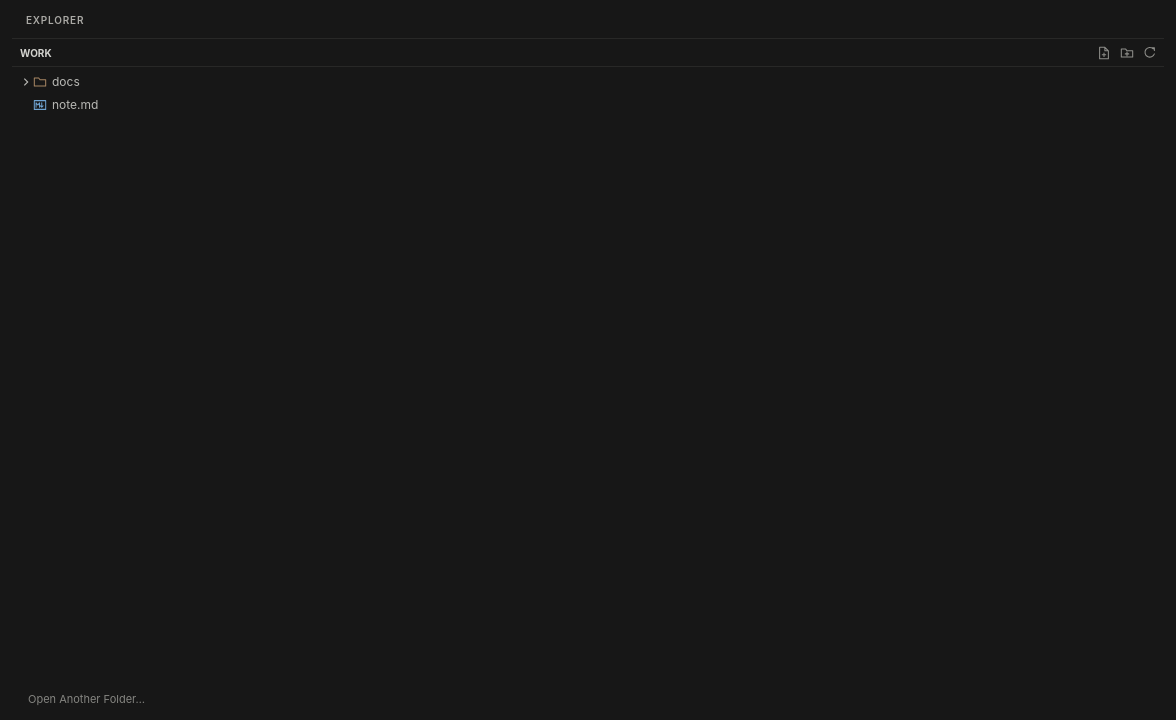
Test: Explorer › preserves expanded folders during external root refreshes
Click the list item "docs".
click(26, 82)  # box [12,70,1164,93]
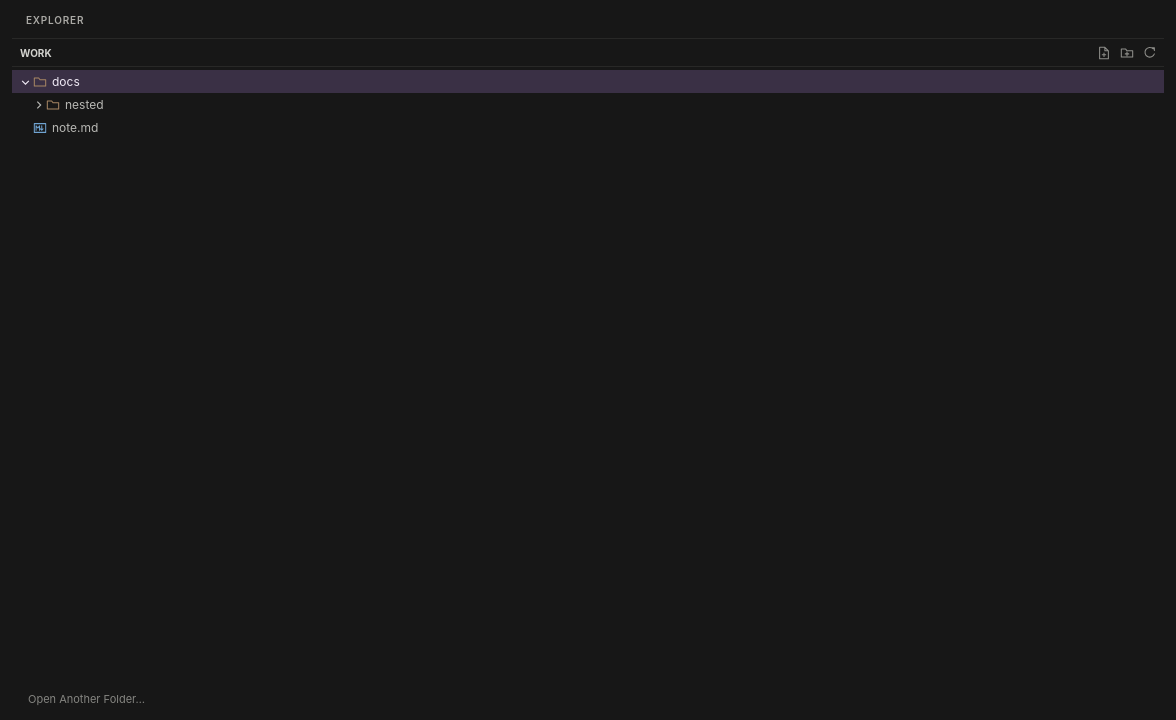
Click the list item "nested".
click(84, 104)  # box [12,93,1164,116]
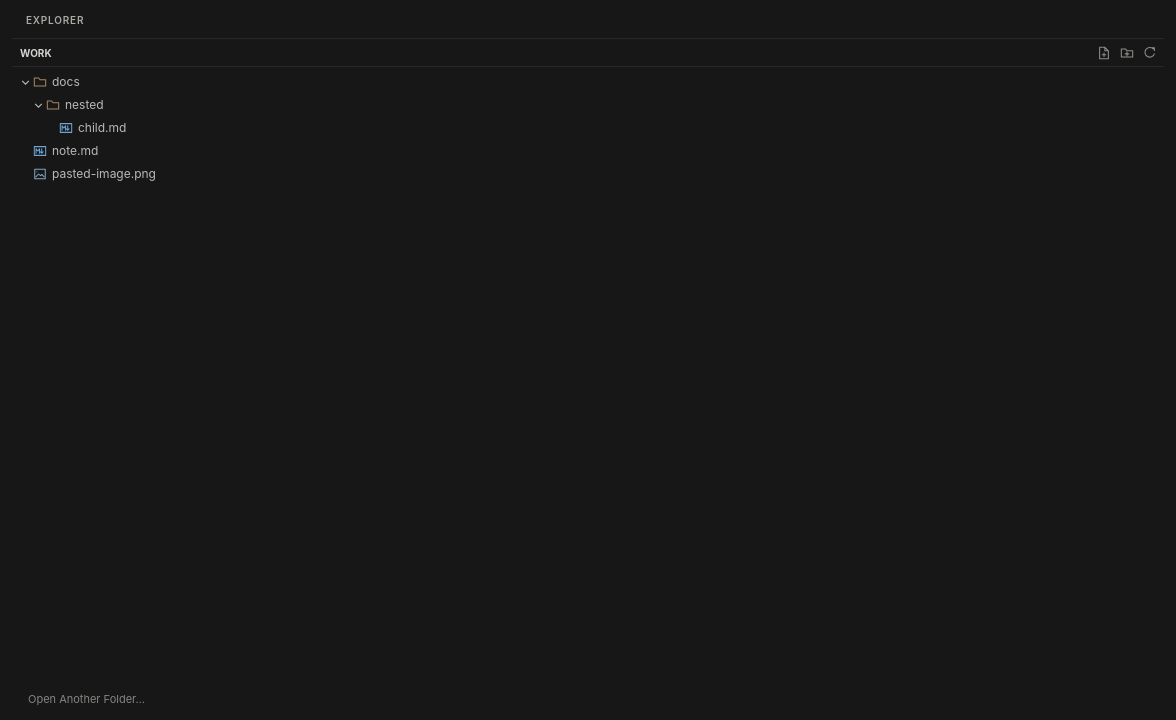
Check: the list item "docs" is expanded, box [12,70,1164,93]
Check: the list item "pasted-image.png" is shown, box [12,162,1164,185]
Check: the list item "nested" is expanded, box [12,93,1164,116]
